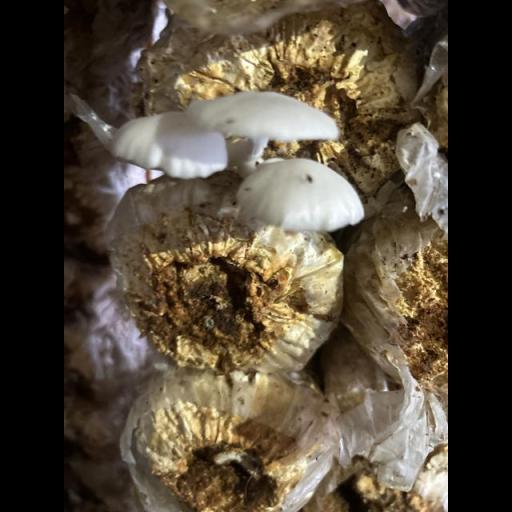White Oyster Mushroom: (84, 91, 362, 230)
